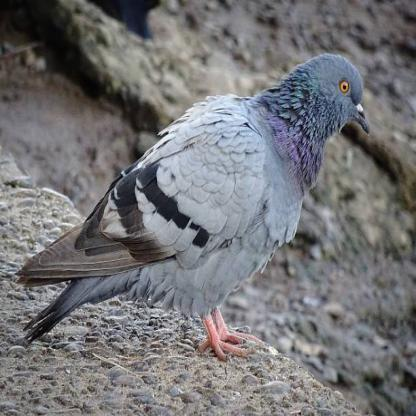Rock Pigeon: (17, 54, 372, 338)
